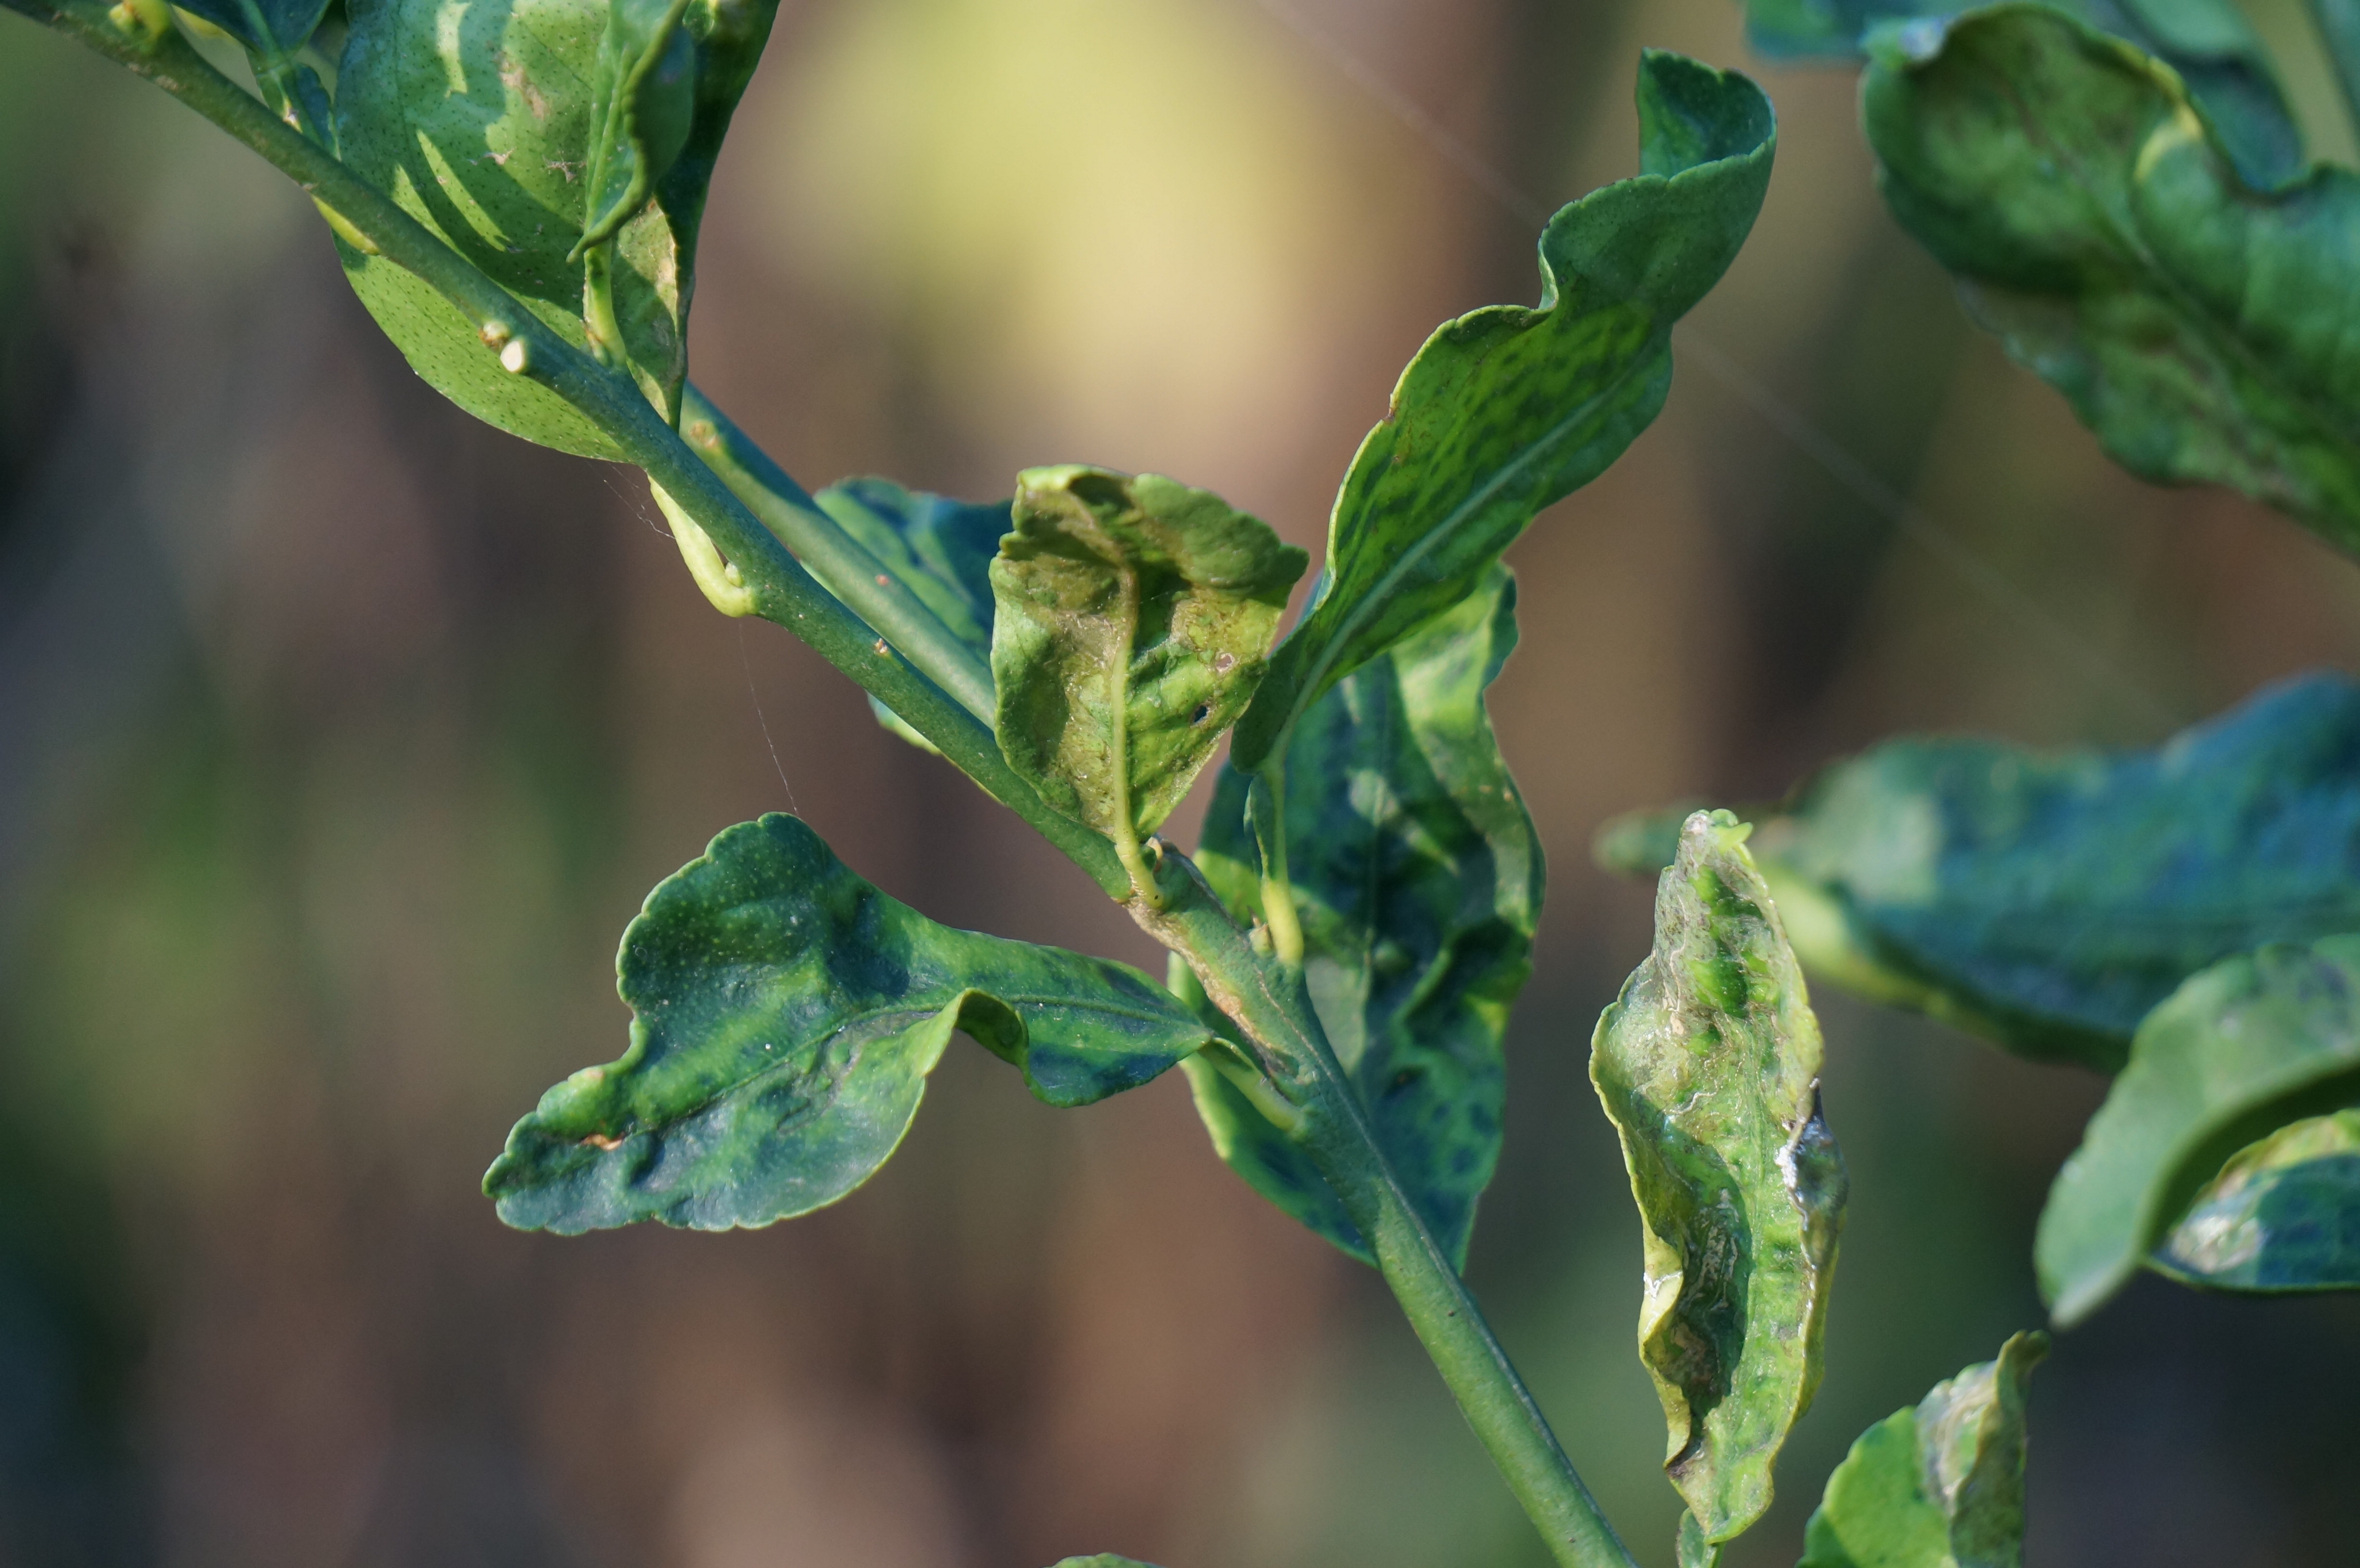damage: (1230, 42, 1781, 850), (464, 800, 1197, 1258), (1578, 777, 1865, 1568), (983, 455, 1321, 913)
